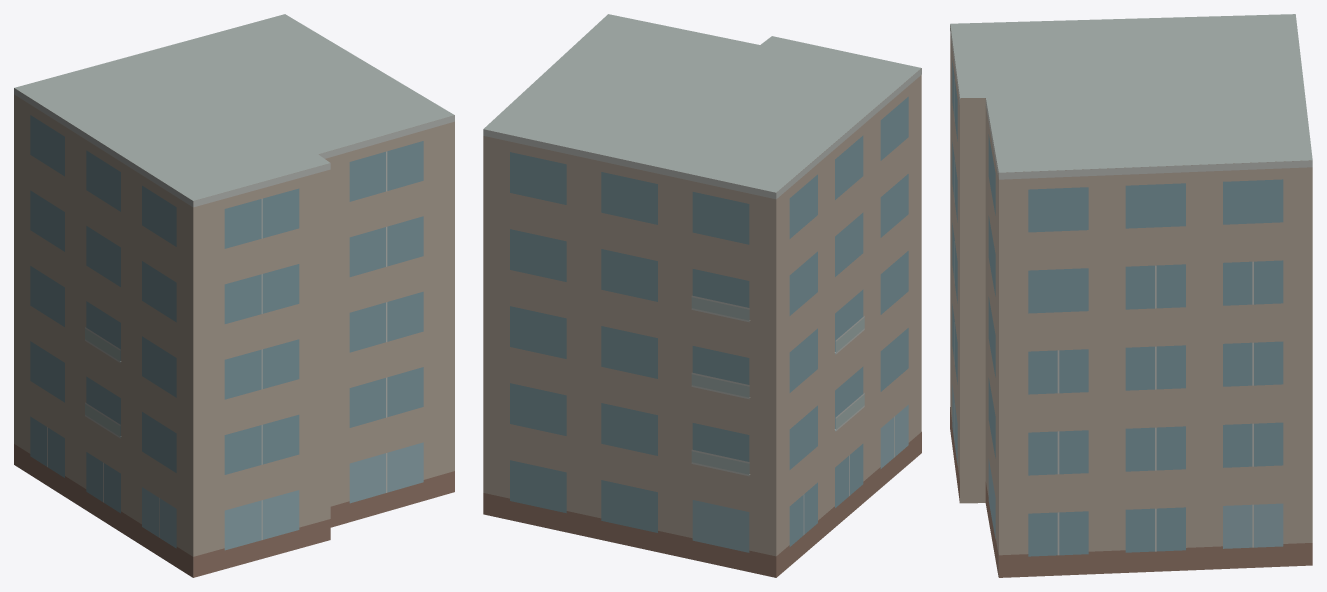
The model's file is survey-upis-32894213.glb.
3 views of the same model, side by side, from view 1: azimuth 30°, elevation 25°; view 2: azimuth 150°, elevation 25°; view 3: azimuth 270°, elevation 25° (orthographic). The views are drawn at different scales.
Parts seen in each view (by area): view 1: survey-upis-32894213.tmp; view 2: survey-upis-32894213.tmp; view 3: survey-upis-32894213.tmp.
Boxes of the visible parts, x1,y1,x2,y2 form: survey-upis-32894213.tmp: [14, 14, 454, 577]; survey-upis-32894213.tmp: [483, 14, 921, 577]; survey-upis-32894213.tmp: [950, 14, 1312, 577].
Bounding box in the file's own units: 11.94 × 14.2 × 11.53.
